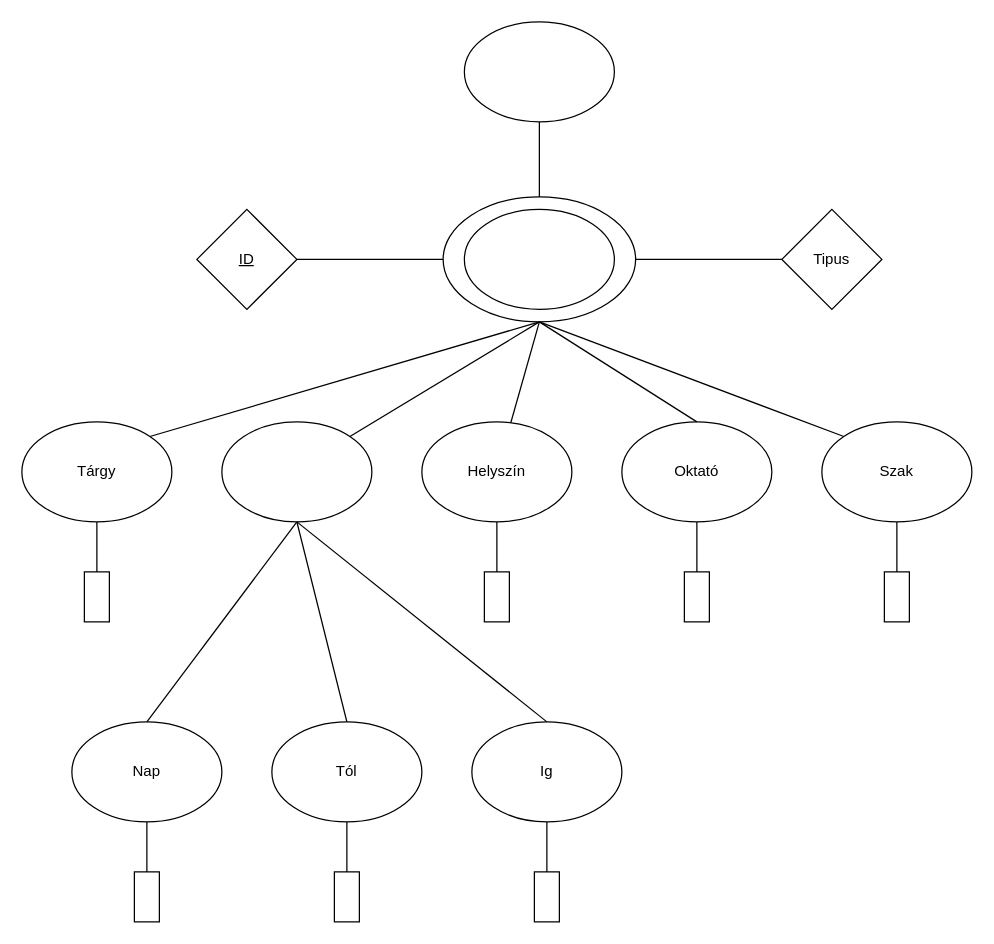
The diagram is 994 pixels wide and 944 high, and some of its shapes have lost their labels. Here are the shapes that lost their labels. From the top down, the centre of each, then its label:
At pixel 538 71: "rwwf5w_orarend".
At pixel 538 258: "óra".
At pixel 296 471: "Időpont".
